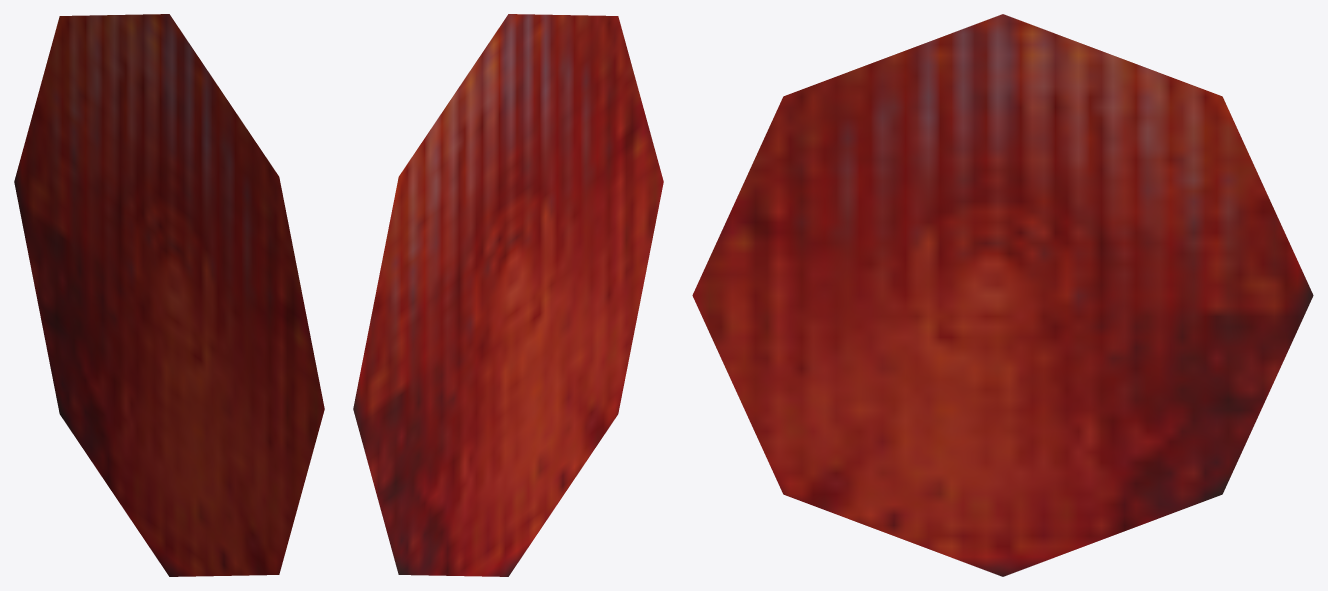
Rendered from Traffic-LightA-BulbRed.fbx.
The picture shows the model from 3 angles, left to right: view 1: azimuth 30°, elevation 25°; view 2: azimuth 150°, elevation 25°; view 3: azimuth 270°, elevation 25°; orthographic projection.
Parts seen in each view (by area): view 1: Traffic-LightA-BulbRed; view 2: Traffic-LightA-BulbRed; view 3: Traffic-LightA-BulbRed.
Part boxes in pixels (<box>): Traffic-LightA-BulbRed: <box>14,14,324,576</box>; Traffic-LightA-BulbRed: <box>353,14,663,576</box>; Traffic-LightA-BulbRed: <box>692,14,1313,576</box>.
Bounding box in the file's own units: 3.81e-06 × 40 × 40.
